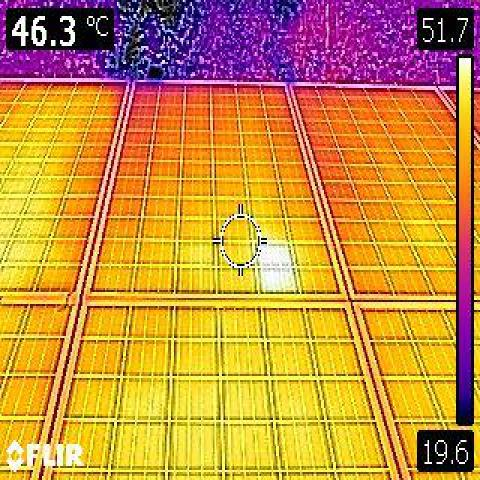fault: (254, 266, 298, 292), (258, 242, 294, 266)
